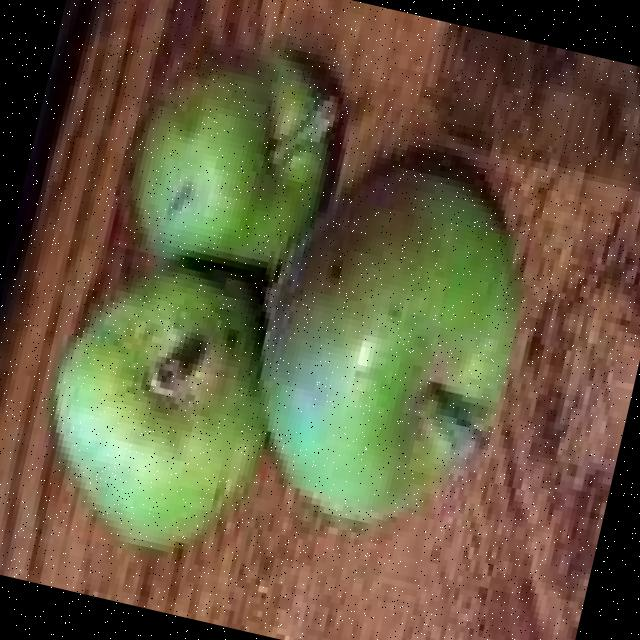Unripe: (223, 140, 546, 540), (22, 238, 300, 563)
